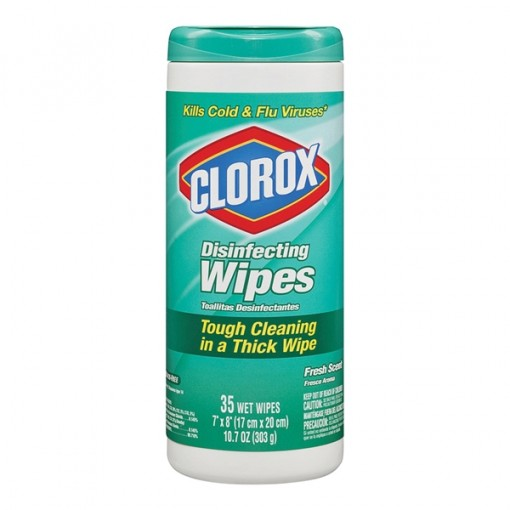Wipes: (161, 19, 350, 487)
